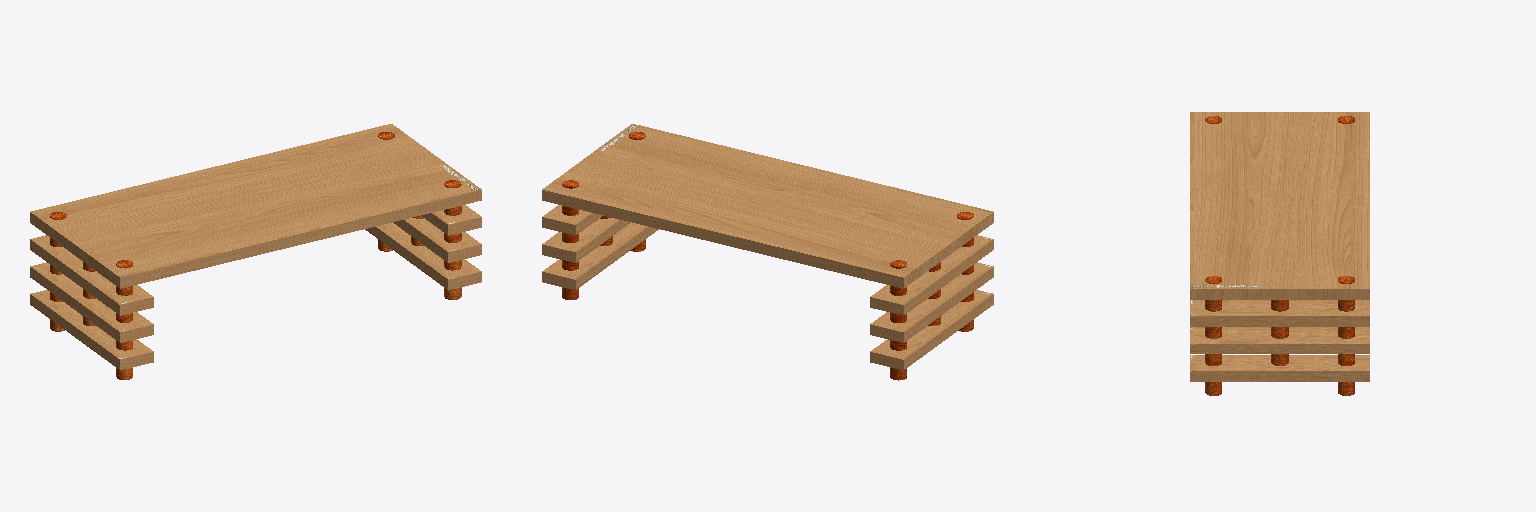
3 views of the same model, side by side, from view 1: azimuth 30°, elevation 25°; view 2: azimuth 150°, elevation 25°; view 3: azimuth 270°, elevation 25° (orthographic).
Parts seen in each view (by area): view 1: Box97, Box99, Box100, Box98, Box102, Box101, Box103, Cylinder121, Cylinder124; view 2: Box97, Box99, Box100, Box98, Box102, Box101, Box103, Cylinder123, Cylinder119; view 3: Box97, Box102, Box103, Box101, Cylinder119, Cylinder121, Cylinder120.
Boxes of the visible parts, x1,y1,x2,y2 form: Box97: [30, 124, 481, 288]; Box99: [30, 262, 153, 342]; Box100: [30, 290, 153, 370]; Box98: [30, 235, 153, 315]; Box102: [365, 222, 481, 290]; Box101: [393, 218, 481, 262]; Box103: [421, 205, 481, 235]; Cylinder121: [444, 180, 461, 299]; Cylinder124: [116, 260, 132, 379]; Box97: [542, 124, 993, 288]; Box99: [870, 262, 993, 342]; Box100: [870, 290, 993, 370]; Box98: [870, 235, 993, 315]; Box102: [542, 222, 658, 290]; Box101: [542, 218, 630, 262]; Box103: [542, 205, 602, 235]; Cylinder123: [890, 260, 906, 380]; Cylinder119: [562, 180, 578, 299]; Box97: [1190, 112, 1369, 299]; Box102: [1190, 355, 1369, 381]; Box103: [1190, 300, 1369, 326]; Box101: [1190, 327, 1369, 353]; Cylinder119: [1338, 276, 1354, 395]; Cylinder121: [1205, 276, 1221, 395]; Cylinder120: [1271, 300, 1288, 365].
Size of the model in its own units: 1189 by 355 by 514.
2 materials, 2 textured.